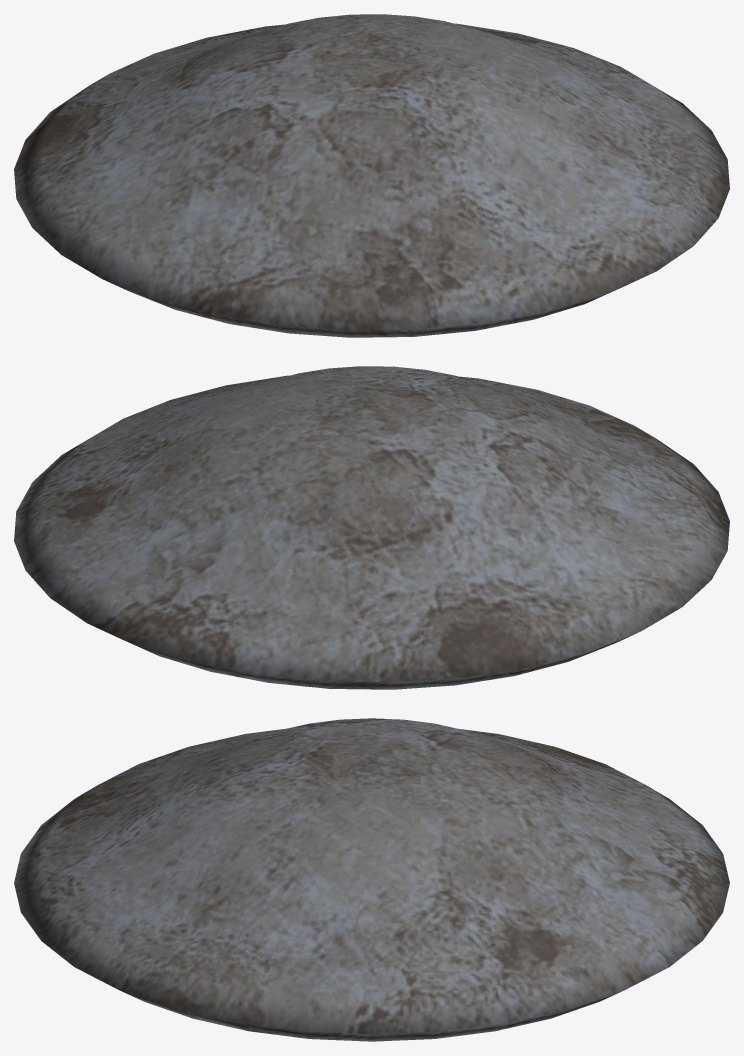
File: ufo.obj
3 renders of one model, top to bottom at view 1: azimuth 30°, elevation 25°; view 2: azimuth 150°, elevation 25°; view 3: azimuth 270°, elevation 25°, orthographic.
Visible parts, largest first — view 1: Circle; view 2: Circle; view 3: Circle.
Part boxes in pixels (<box>): Circle: <box>14,14,729,337</box>; Circle: <box>14,366,729,689</box>; Circle: <box>14,718,729,1041</box>.
Size of the model in its own units: 26.44 by 7 by 26.44.
1 material, 1 textured.
